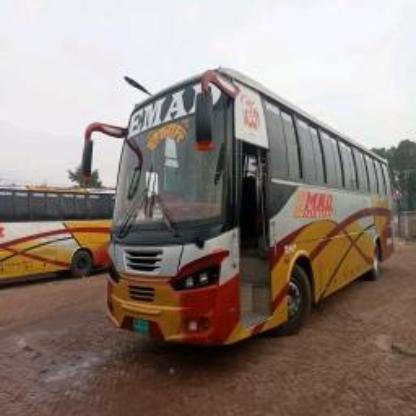bus: (82, 63, 395, 349), (1, 182, 109, 289)
